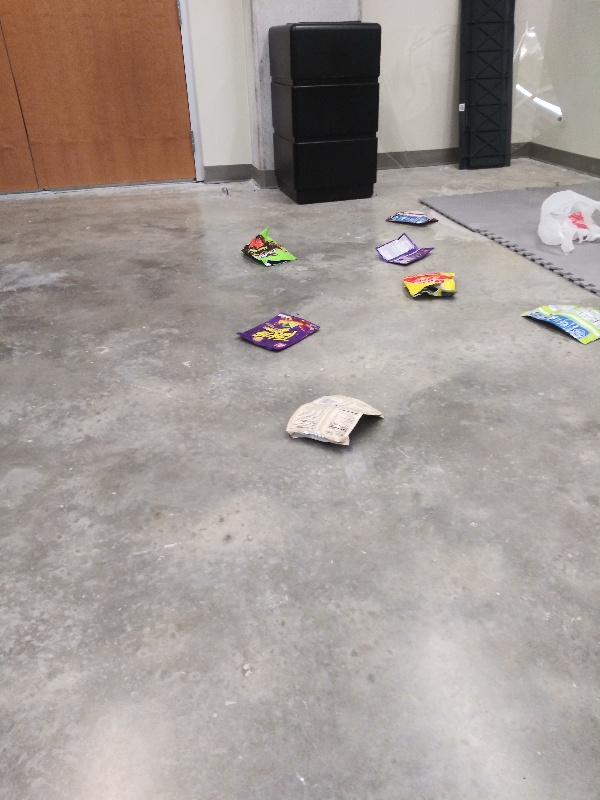bag: (280, 391, 390, 451), (515, 295, 600, 350), (233, 310, 326, 354), (237, 221, 301, 269), (371, 232, 441, 270), (396, 268, 466, 301), (380, 207, 443, 233)
